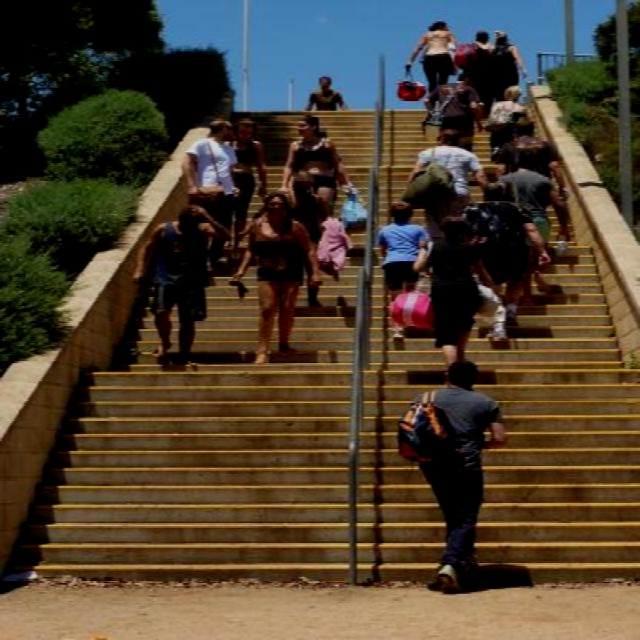stair: (3, 110, 640, 585)
